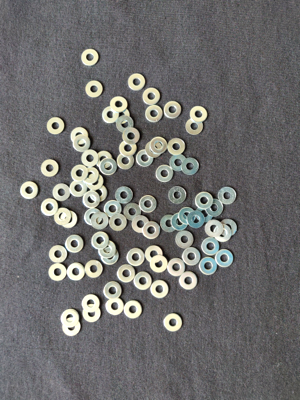circle: (164, 313, 185, 333), (80, 47, 100, 67), (218, 185, 238, 205), (181, 247, 201, 267), (62, 318, 83, 337), (46, 117, 66, 136), (40, 198, 60, 217), (65, 234, 85, 253), (67, 263, 86, 283), (85, 260, 105, 279), (142, 87, 162, 106), (164, 101, 183, 121), (140, 195, 159, 215), (168, 186, 188, 205), (219, 218, 238, 238), (201, 237, 221, 256), (179, 272, 199, 291), (126, 247, 145, 267), (134, 272, 154, 291), (184, 119, 205, 137), (198, 257, 219, 275), (20, 181, 39, 200), (52, 183, 71, 202), (48, 263, 67, 282), (124, 203, 143, 222), (168, 258, 187, 277), (151, 280, 170, 299), (117, 265, 136, 284), (106, 298, 125, 317), (54, 207, 72, 227), (167, 138, 187, 156), (144, 246, 164, 264), (69, 128, 90, 145), (73, 135, 92, 153), (190, 106, 209, 124), (101, 106, 120, 124), (112, 107, 131, 125), (117, 152, 135, 171), (99, 158, 118, 176), (71, 164, 90, 182), (84, 209, 103, 227), (115, 187, 134, 205), (110, 213, 128, 232), (143, 222, 162, 240), (170, 154, 188, 173), (156, 165, 174, 184), (195, 192, 214, 210), (195, 204, 213, 223), (160, 215, 178, 234), (214, 224, 232, 243), (215, 250, 233, 269), (150, 255, 169, 273), (103, 281, 122, 299), (124, 301, 142, 320), (61, 310, 80, 328), (103, 201, 123, 218), (100, 248, 120, 265), (61, 211, 79, 229), (127, 73, 145, 91), (116, 115, 134, 133), (91, 212, 109, 230), (132, 216, 150, 234), (136, 150, 154, 168), (182, 157, 200, 175), (205, 220, 223, 238), (177, 231, 195, 249), (91, 232, 109, 250), (81, 294, 99, 312), (83, 305, 101, 323), (86, 79, 103, 98), (41, 160, 60, 177), (146, 106, 163, 125), (123, 127, 140, 146), (82, 149, 99, 168), (151, 136, 168, 155), (51, 246, 68, 264), (96, 151, 113, 169), (70, 180, 88, 197), (83, 192, 101, 209), (91, 185, 108, 203), (206, 200, 224, 217), (188, 211, 205, 229), (171, 213, 188, 231), (98, 242, 117, 258), (145, 141, 163, 157), (179, 207, 195, 225), (119, 141, 138, 156), (83, 168, 100, 184), (111, 97, 129, 112), (86, 175, 104, 190)
